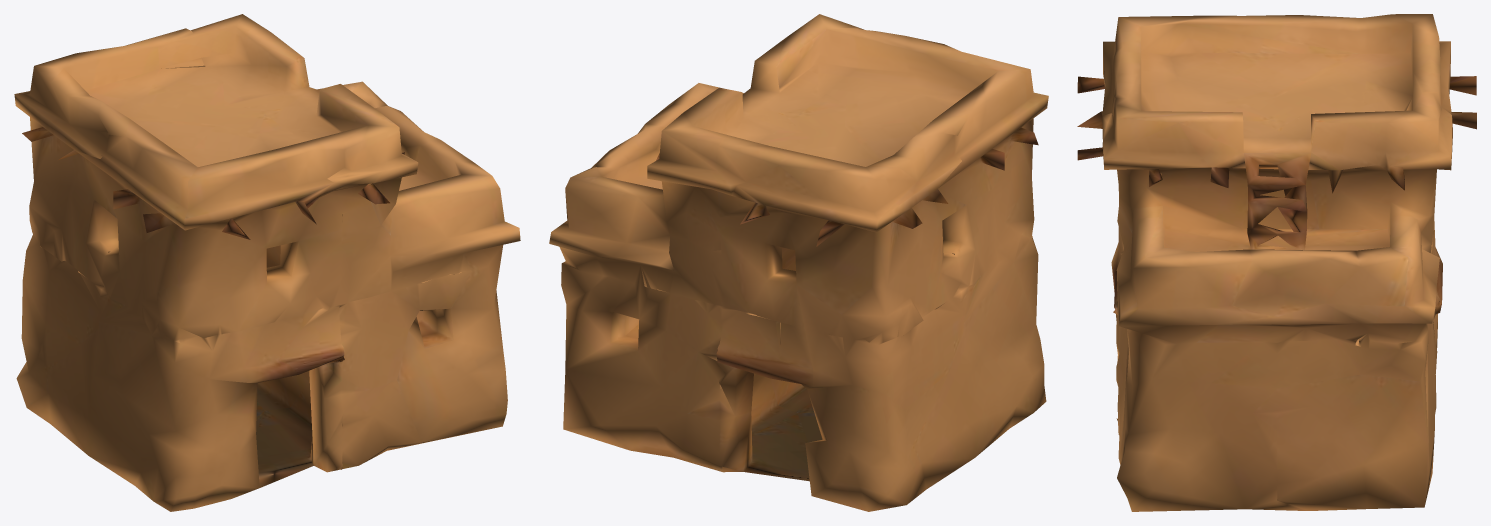
The model's file is house_mudbrick.glb.
The picture shows the model from 3 angles, left to right: view 1: azimuth 30°, elevation 25°; view 2: azimuth 150°, elevation 25°; view 3: azimuth 270°, elevation 25°; orthographic projection. The views are drawn at different scales.
Parts seen in each view (by area): view 1: tripo_node_a80a0e80-4584-4227-bbc5-5994a26113fb; view 2: tripo_node_a80a0e80-4584-4227-bbc5-5994a26113fb; view 3: tripo_node_a80a0e80-4584-4227-bbc5-5994a26113fb.
Part boxes in pixels (x1=…): tripo_node_a80a0e80-4584-4227-bbc5-5994a26113fb: x1=14, y1=14, x2=520, y2=511; tripo_node_a80a0e80-4584-4227-bbc5-5994a26113fb: x1=549, y1=14, x2=1048, y2=511; tripo_node_a80a0e80-4584-4227-bbc5-5994a26113fb: x1=1077, y1=14, x2=1476, y2=511.
Size of the model in its own units: 0.9816 by 0.8712 by 0.9309.
Materials: 1 (1 with a texture image).
